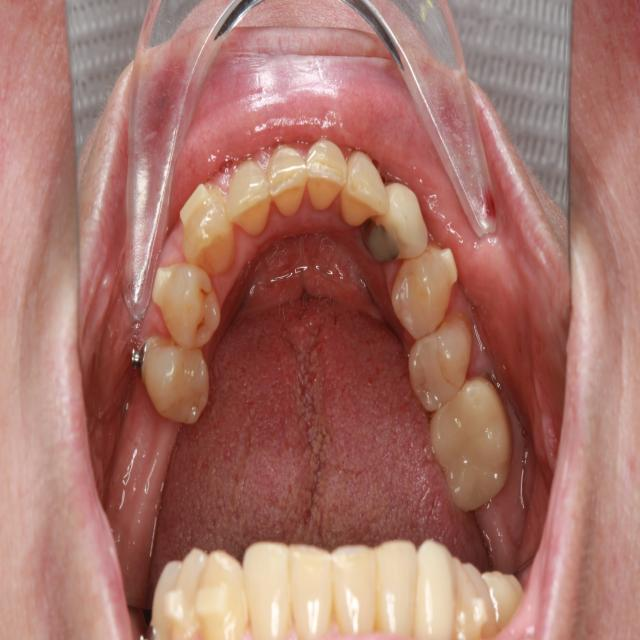tooth: (423, 372, 519, 525), (134, 319, 217, 433), (386, 232, 464, 347), (367, 162, 434, 286), (150, 253, 229, 354), (399, 315, 480, 413), (177, 178, 244, 282), (257, 122, 316, 225), (217, 147, 278, 244), (300, 122, 355, 228), (339, 133, 393, 239)
